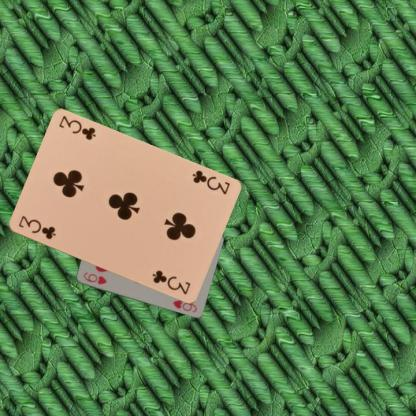3c: (189, 167, 231, 196), (15, 213, 57, 241)
6h: (81, 270, 107, 286)
